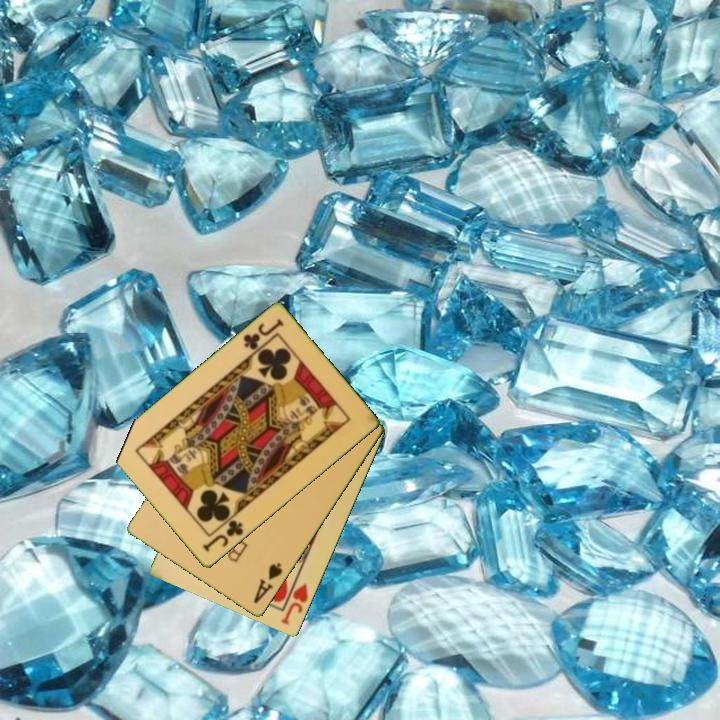As: (250, 559, 286, 607)
Jc: (199, 516, 247, 555), (240, 315, 287, 354)
Jh: (278, 580, 311, 628)
